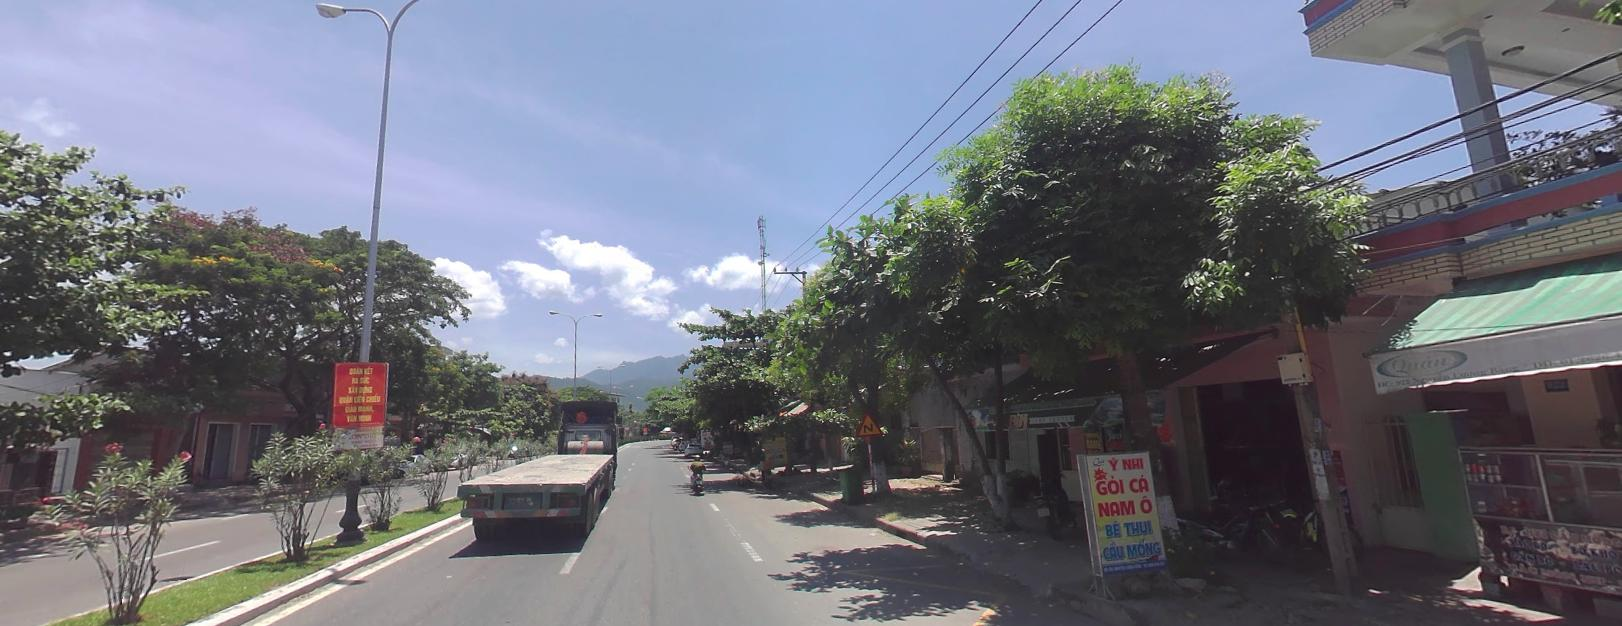Nguy hiem: (854, 411, 883, 433)
